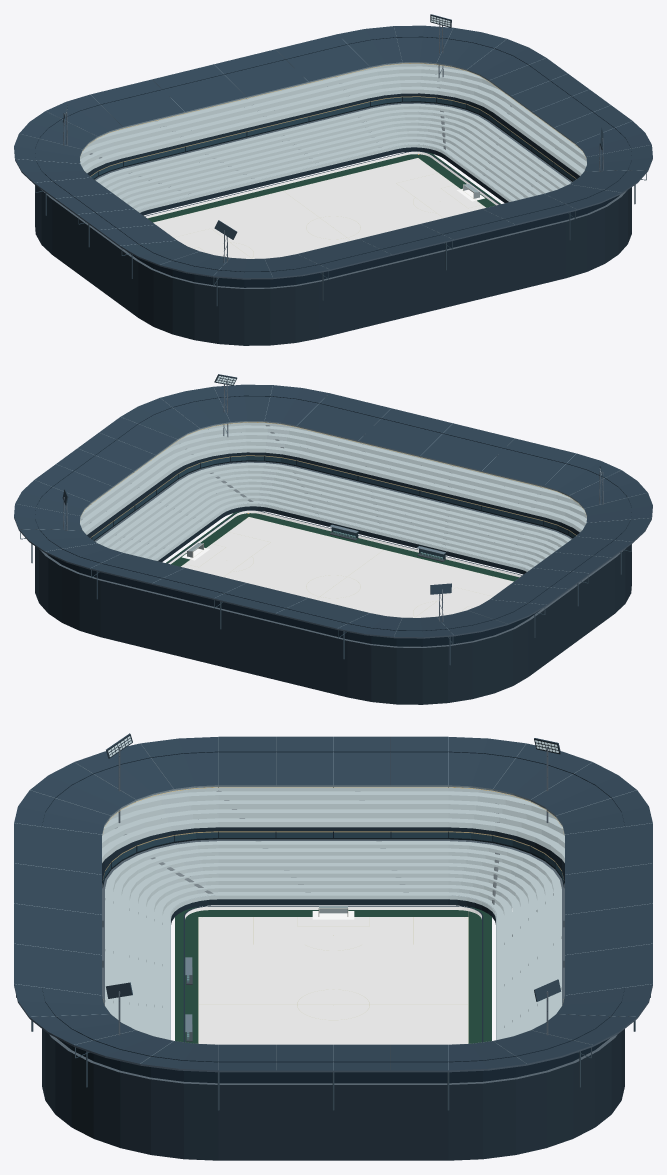
File: stadium-lod1.glb
3 views of the same model, one above another, from view 1: azimuth 30°, elevation 25°; view 2: azimuth 150°, elevation 25°; view 3: azimuth 270°, elevation 25° (orthographic). The views are drawn at different scales.
Visible parts, largest first — view 1: Roof_Canopy, Facade_Concrete, Bowl_Seats, Bowl_Risers, Pitch_Turf, Bowl_Concrete, Windbreak_Steel, Roof_Steel, Concourse_Glass, Pitch_Runoff, Perimeter_Led, Floodlights_Steel (+5 smaller); view 2: Roof_Canopy, Facade_Concrete, Bowl_Seats, Bowl_Risers, Pitch_Turf, Bowl_Concrete, Windbreak_Steel, Roof_Steel, Concourse_Glass, Pitch_Runoff, Perimeter_Led, Floodlights_Steel (+5 smaller); view 3: Roof_Canopy, Facade_Concrete, Bowl_Seats, Pitch_Turf, Bowl_Risers, Bowl_Concrete, Windbreak_Steel, Pitch_Runoff, Roof_Steel, Concourse_Glass, Floodlights_Steel, Perimeter_Led (+5 smaller).
Boxes of the visible parts, x1,y1,x2,y2 form: Roof_Canopy: (14, 25, 652, 278); Facade_Concrete: (35, 185, 631, 345); Bowl_Seats: (80, 66, 586, 211); Bowl_Risers: (80, 63, 586, 212); Pitch_Turf: (153, 158, 485, 258); Bowl_Concrete: (41, 93, 626, 288); Windbreak_Steel: (35, 36, 631, 287); Roof_Steel: (14, 27, 652, 279); Concourse_Glass: (91, 97, 575, 181); Pitch_Runoff: (147, 152, 500, 222); Perimeter_Led: (145, 151, 498, 218); Floodlights_Steel: (62, 14, 603, 262); Roof_Canopy: (14, 384, 652, 637); Facade_Concrete: (35, 544, 631, 704); Bowl_Seats: (80, 425, 586, 570); Bowl_Risers: (80, 422, 586, 571); Pitch_Turf: (181, 517, 513, 617); Bowl_Concrete: (39, 452, 625, 647); Windbreak_Steel: (35, 395, 631, 646); Roof_Steel: (14, 386, 652, 638); Concourse_Glass: (91, 456, 575, 540); Pitch_Runoff: (166, 511, 519, 581); Perimeter_Led: (168, 510, 521, 577); Floodlights_Steel: (62, 374, 603, 621); Roof_Canopy: (14, 736, 652, 1070); Facade_Concrete: (42, 1029, 624, 1160); Bowl_Seats: (102, 791, 564, 1039); Pitch_Turf: (199, 917, 467, 1044); Bowl_Risers: (102, 787, 564, 918); Bowl_Concrete: (49, 827, 617, 1084); Windbreak_Steel: (42, 751, 624, 1083); Pitch_Runoff: (175, 907, 491, 1043); Roof_Steel: (14, 737, 652, 1072); Concourse_Glass: (103, 832, 563, 883); Floodlights_Steel: (106, 733, 560, 1035); Perimeter_Led: (185, 906, 481, 918).
Size of what is drawn, in the model's own units: 199 by 41.13 by 161.
